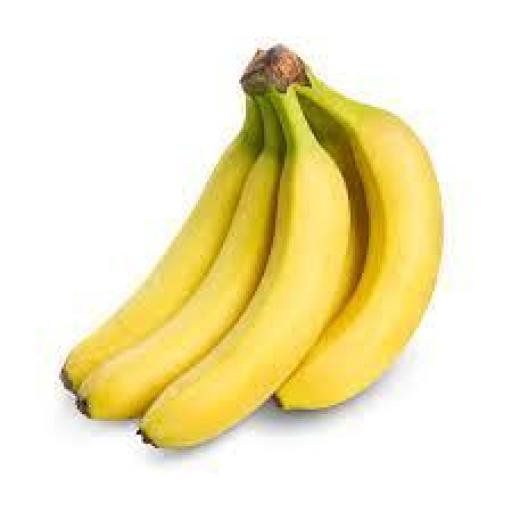banana: (139, 87, 350, 448), (78, 101, 284, 418), (62, 98, 261, 391), (278, 76, 441, 409)
